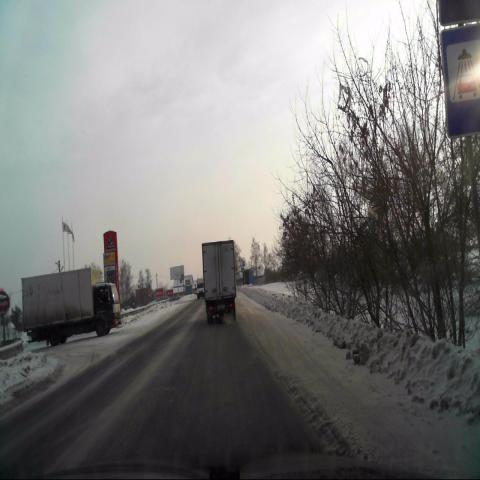7_5: (440, 25, 480, 137)
